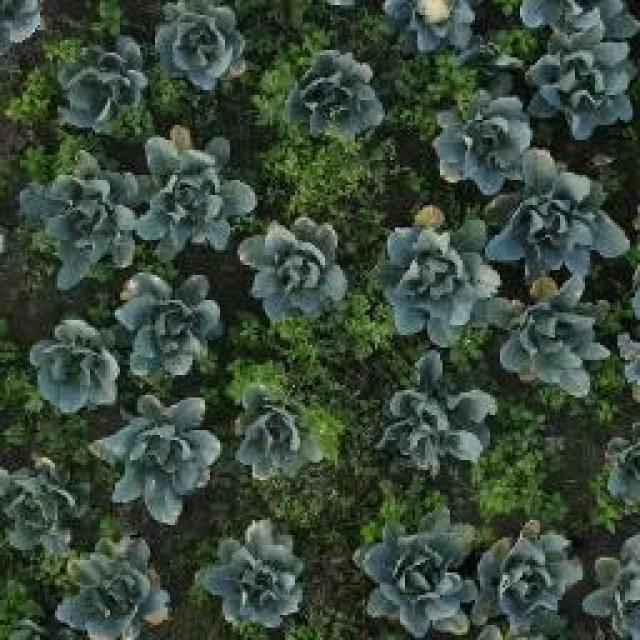cabbage: (90, 392, 223, 521), (500, 155, 630, 279), (356, 516, 480, 636), (194, 516, 313, 635), (128, 135, 250, 249), (384, 222, 498, 343), (21, 160, 135, 278), (428, 72, 540, 192), (381, 362, 497, 477), (228, 212, 340, 330), (492, 280, 602, 400), (55, 537, 172, 640), (479, 520, 587, 631), (117, 270, 223, 379), (31, 316, 126, 416), (532, 42, 636, 130), (0, 453, 86, 559), (284, 50, 386, 137), (51, 43, 151, 131), (235, 390, 329, 482), (152, 0, 249, 87), (380, 0, 487, 53)
